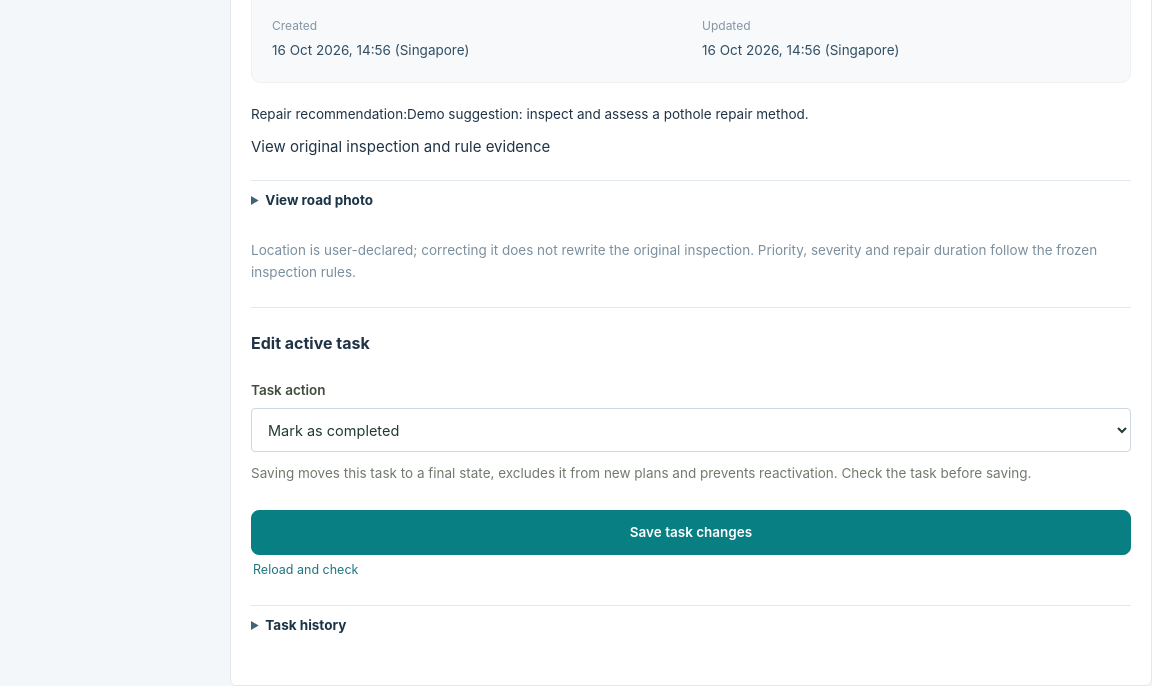
preserves saved result if list refresh fails
(page scrolled)
What coordinates should you click on to do the following:
click the button "Save task changes"
I would click on:
 (691, 532)
Its box is [251,510,1131,555].
(page scrolled)
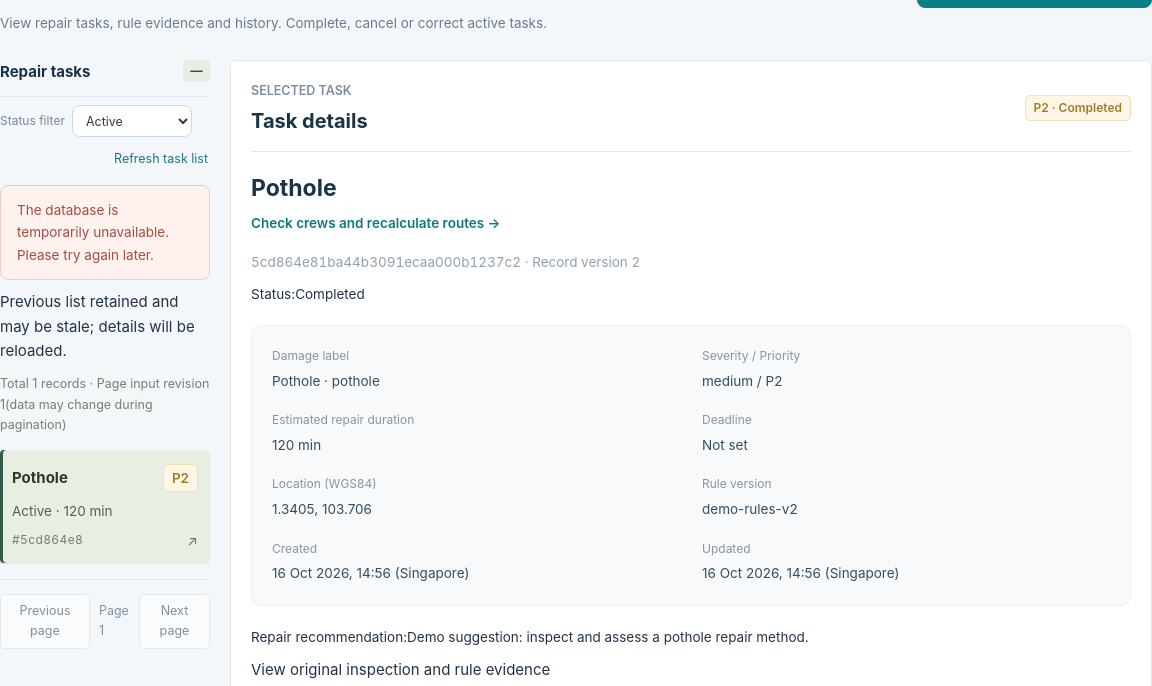
Expected: the text "Previous list retained" is shown, [0,292,195,360]
